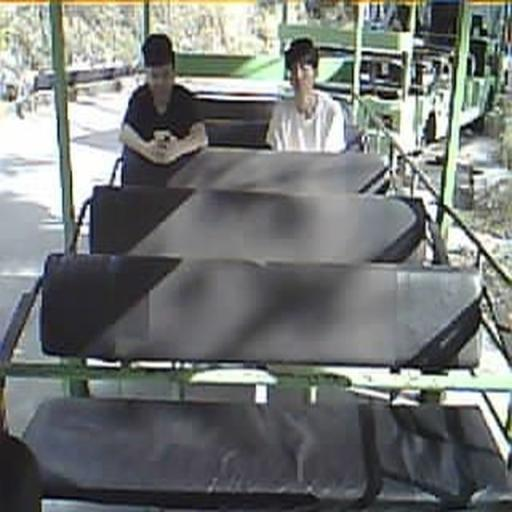persona: (118, 32, 208, 185), (264, 36, 350, 154)
